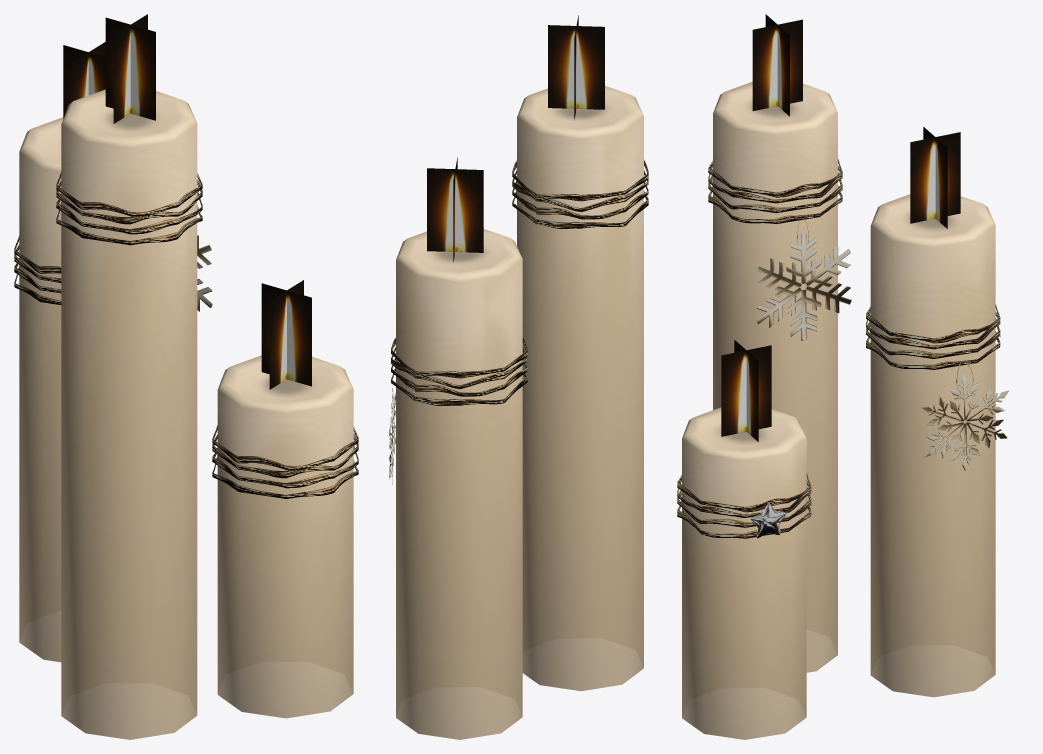
The model's file is candles_big.fbx.
3 renders of one model, left to right at view 1: azimuth 30°, elevation 25°; view 2: azimuth 150°, elevation 25°; view 3: azimuth 270°, elevation 25°, orthographic. The views are drawn at different scales.
Visible parts, largest first — view 1: candles_big; view 2: candles_big; view 3: candles_big.
Boxes of the visible parts, x1=… form: candles_big: x1=14, y1=14, x2=358, y2=739; candles_big: x1=389, y1=15, x2=648, y2=739; candles_big: x1=677, y1=14, x2=1008, y2=739.
Bounding box in the file's own units: 59.17 × 145 × 73.64.
